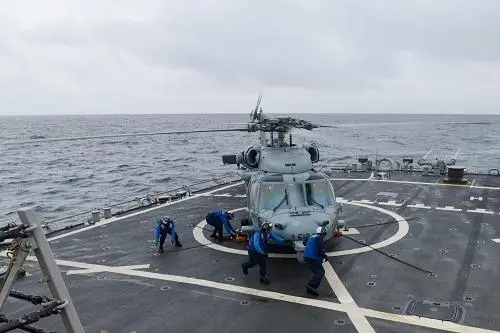Apron: (193, 202, 411, 259)
